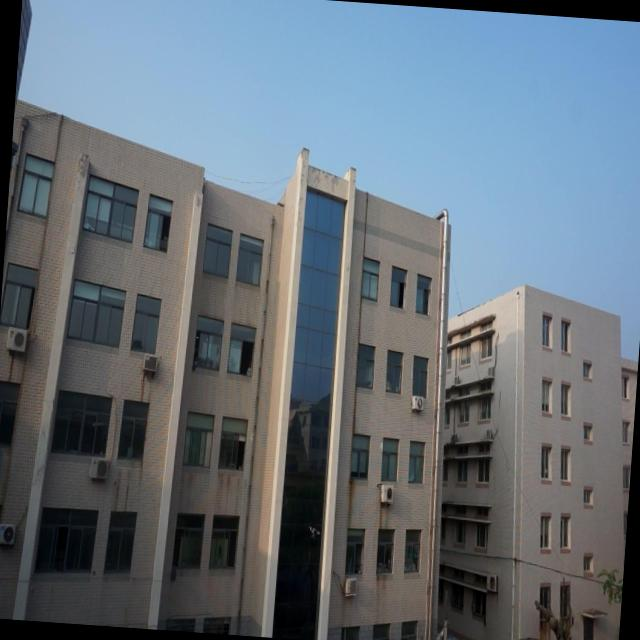drone: (304, 522, 322, 538)
